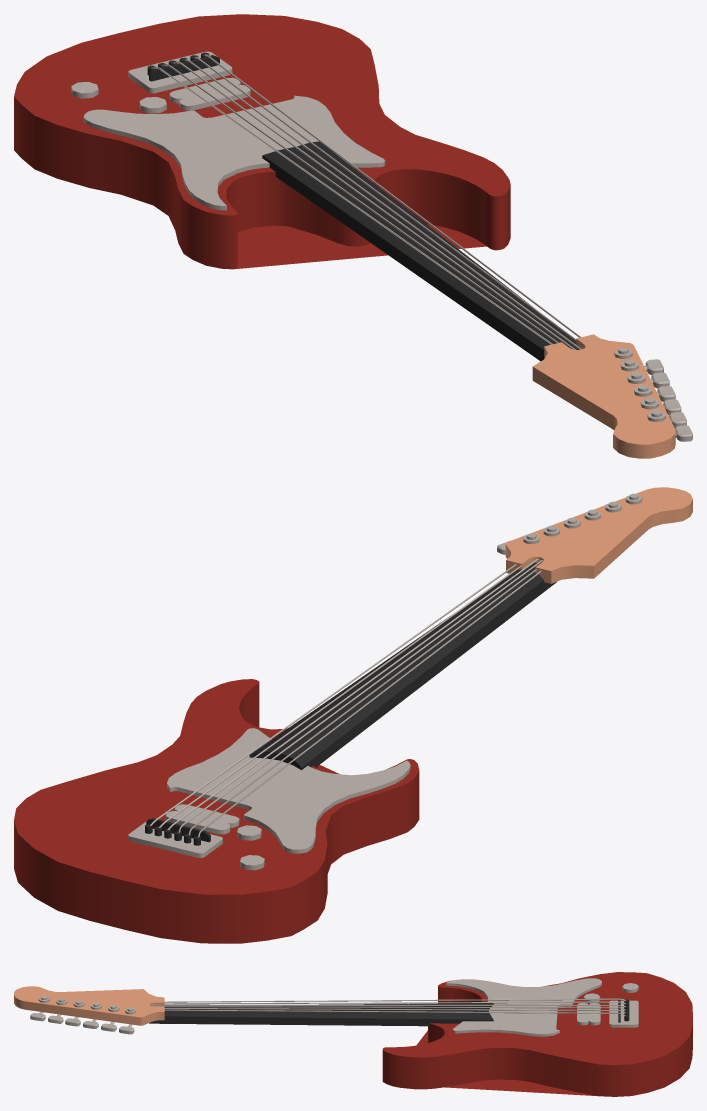
The model's file is ElectricGuitar_01.fbx.
3 views of the same model, one above another, from view 1: azimuth 30°, elevation 25°; view 2: azimuth 150°, elevation 25°; view 3: azimuth 270°, elevation 25° (orthographic). The views are drawn at different scales.
Parts seen in each view (by area): view 1: ElectricGuitar_01; view 2: ElectricGuitar_01; view 3: ElectricGuitar_01.
Boxes of the visible parts, bbox=[...] form: ElectricGuitar_01: bbox=[14, 14, 692, 458]; ElectricGuitar_01: bbox=[14, 487, 692, 943]; ElectricGuitar_01: bbox=[14, 972, 692, 1096].
Size of the model in its own units: 0.4138 by 0.0959 by 1.27.
